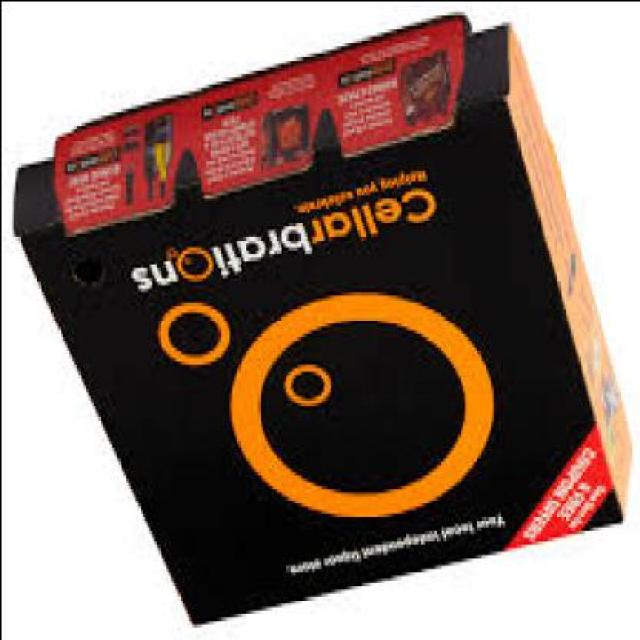CARDBOARD: (17, 14, 635, 623)
